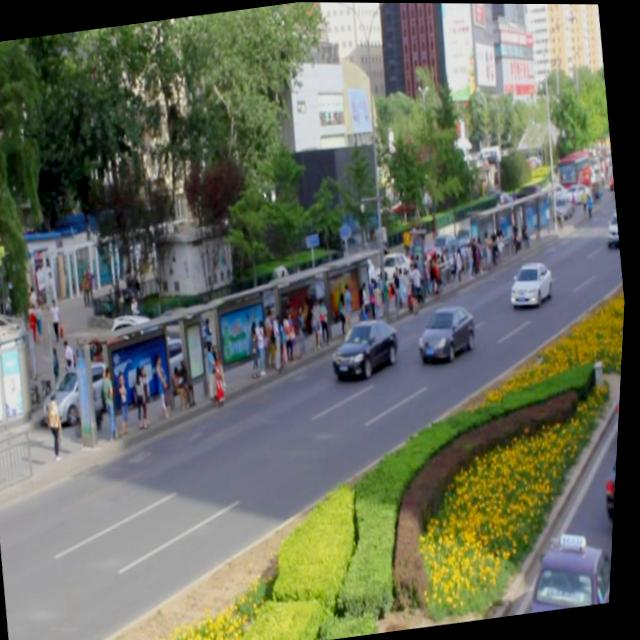car: (330, 315, 405, 381), (417, 304, 480, 364), (509, 261, 556, 309)
